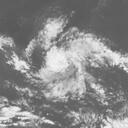cyclone: (33, 32, 104, 94)
